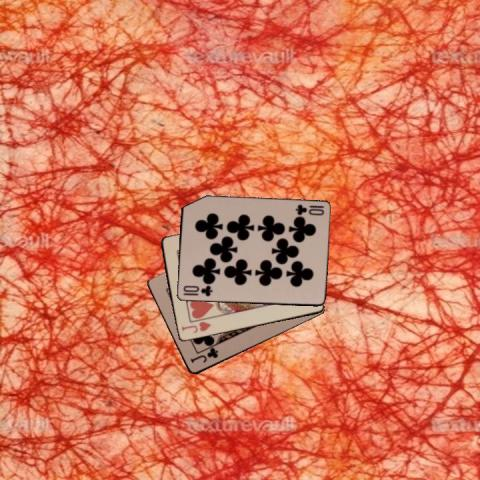10c: (180, 283, 213, 298), (292, 202, 325, 217)
Jc: (188, 346, 220, 365)
Jh: (179, 318, 212, 334)
